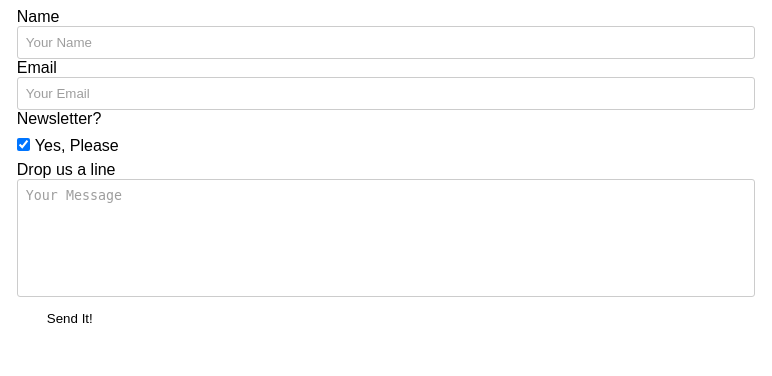
Test case: 🧪 FORM: › submit tests: › should fail with email empty
This screenshot has width=772, height=376.
Type "John Doe" into the field labelled "Name".
click(386, 42); type("John Doe")  # box [17,26,755,59]
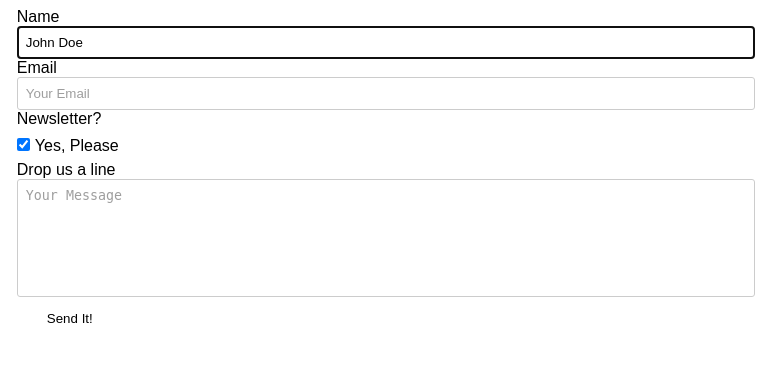
Type "test message" into the text box.
click(386, 238); type("test message")  # box [17,179,755,297]
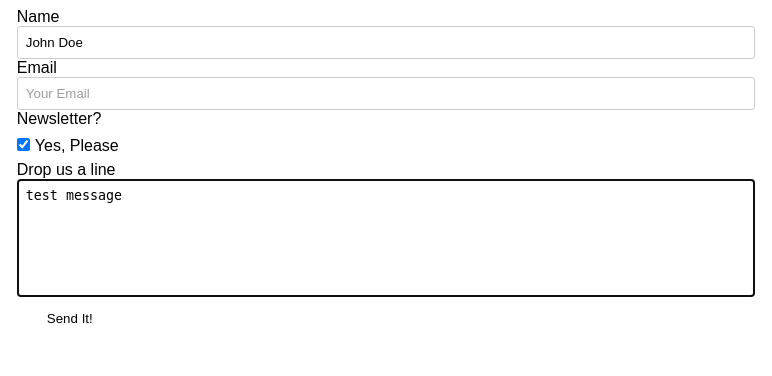
Click the button "Send it!".
click(70, 318)  # box [17,301,123,336]
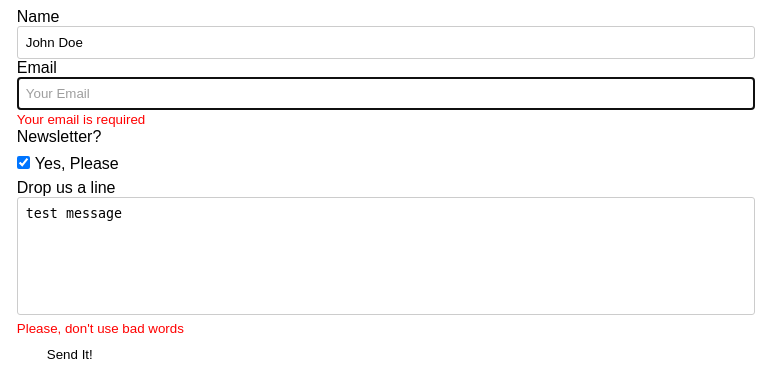
Now the text "Your email is required" is shown, box [17,112,145,127]
